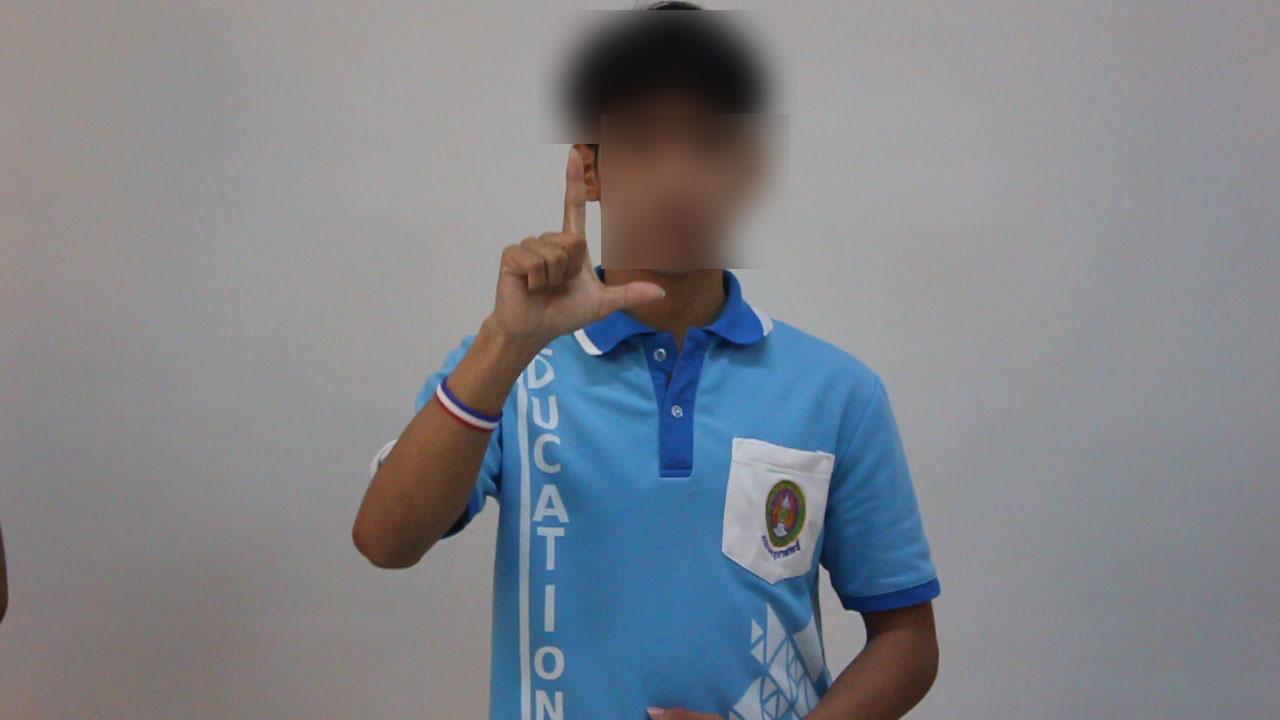lor: (480, 143, 695, 364)
